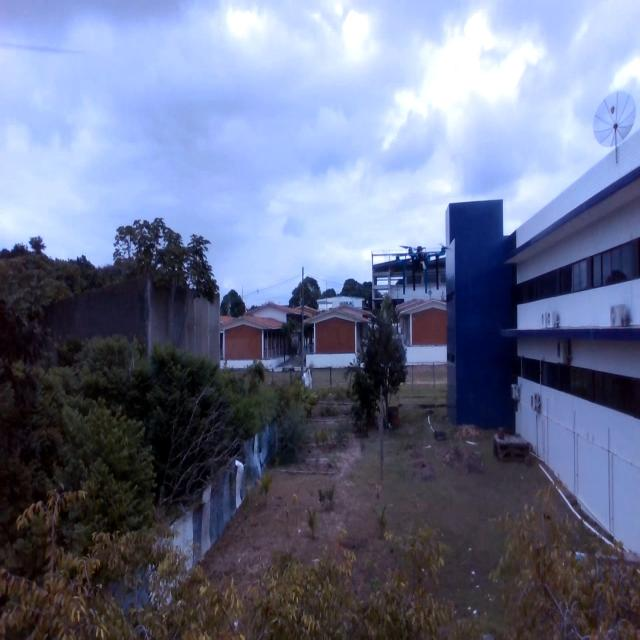-uav-: (391, 219, 453, 326)
